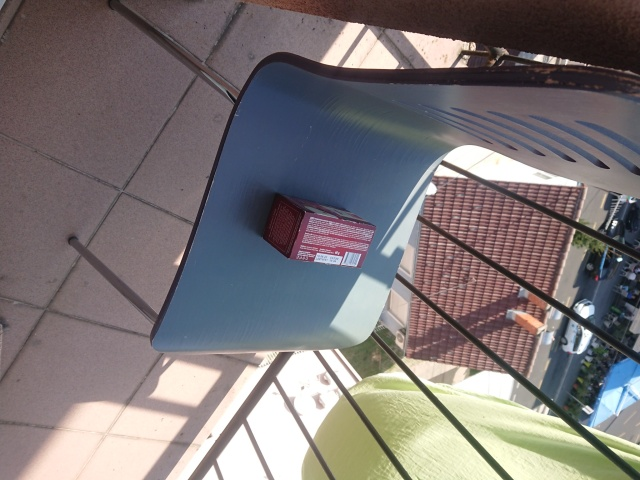Franck Apple Cinnamon Tea 60g: (260, 189, 377, 269)
